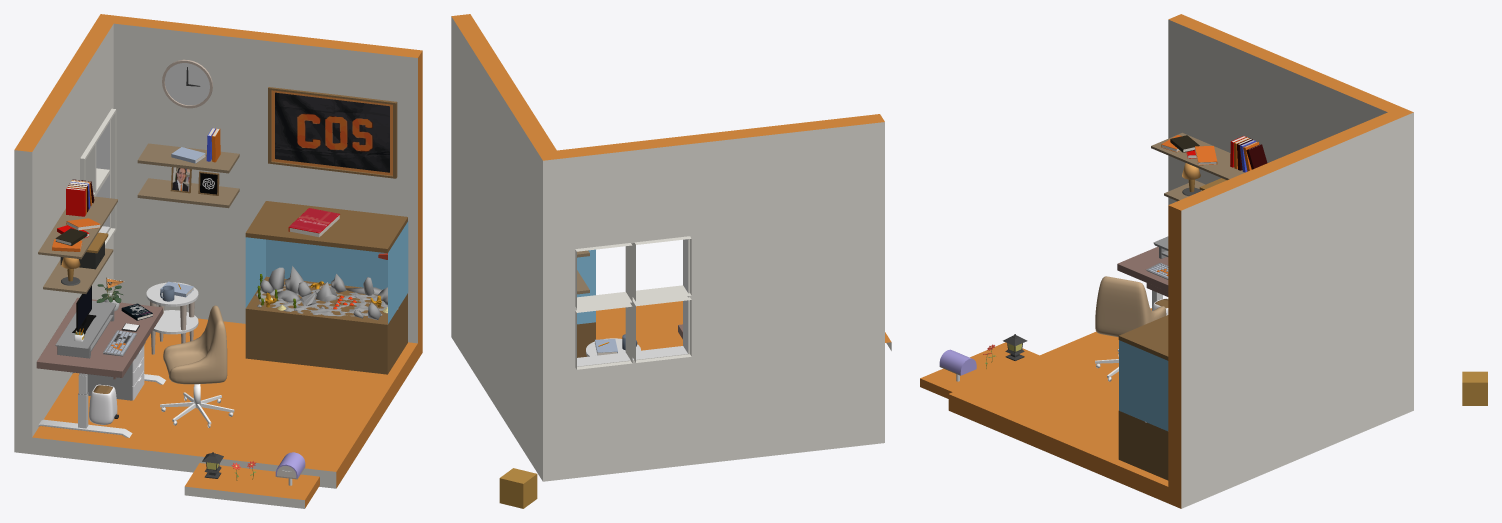
Rendered from house12.glb.
3 views of the same model, side by side, from view 1: azimuth 30°, elevation 25°; view 2: azimuth 150°, elevation 25°; view 3: azimuth 270°, elevation 25° (orthographic). The views are drawn at different scales.
Parts seen in each view (by area): view 1: Room, fish tank, cos, Table Base, Shelf 1, Shelf 2, Garden Floor, Chair seat, Desk Content, Stool, Clock, cos226 (+3 smaller); view 2: Room, fish tank, cubicle, Stool; view 3: Room, fish tank, Shelf 1, Chair seat, Garden Floor, Table Base, cubicle, Mailbox.
Boxes of the visible parts, bbox=[...] form: Room: bbox=[14, 14, 422, 488]; fish tank: bbox=[245, 201, 408, 374]; cos: bbox=[268, 87, 397, 178]; Table Base: bbox=[36, 297, 165, 437]; Shelf 1: bbox=[38, 179, 117, 293]; Shelf 2: bbox=[137, 128, 239, 208]; Garden Floor: bbox=[184, 463, 319, 508]; Chair seat: bbox=[163, 305, 227, 384]; Desk Content: bbox=[55, 284, 139, 358]; Stool: bbox=[146, 281, 198, 354]; Clock: bbox=[162, 59, 212, 108]; cos226: bbox=[288, 208, 339, 237]; Room: bbox=[451, 14, 884, 481]; fish tank: bbox=[577, 249, 595, 357]; cubicle: bbox=[499, 468, 537, 508]; Stool: bbox=[586, 334, 640, 356]; Room: bbox=[948, 14, 1413, 508]; fish tank: bbox=[1118, 315, 1168, 480]; Shelf 1: bbox=[1151, 132, 1267, 201]; Chair seat: bbox=[1095, 276, 1166, 337]; Garden Floor: bbox=[920, 342, 1039, 398]; Table Base: bbox=[1117, 246, 1168, 315]; cubicle: bbox=[1462, 371, 1487, 405]; Mailbox: bbox=[939, 349, 976, 381].
Size of the model in its own units: 23.29 by 16.47 by 28.41.
92 materials, 7 textured.
